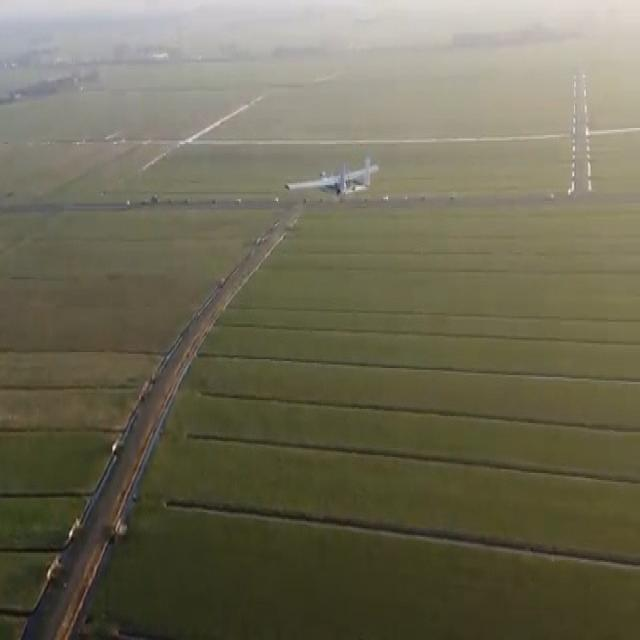drones: (284, 149, 383, 213)
